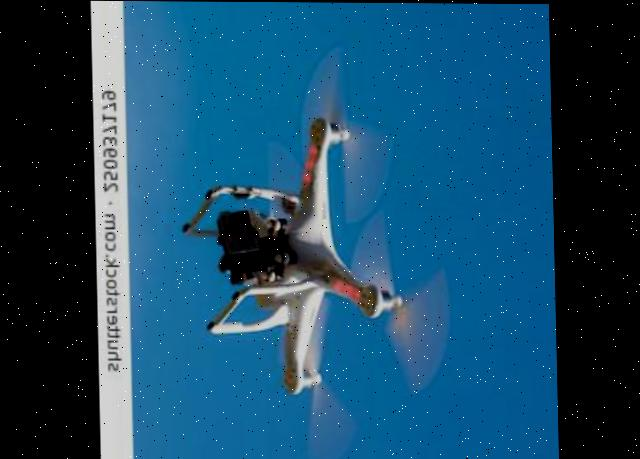drone: (157, 29, 471, 459)
